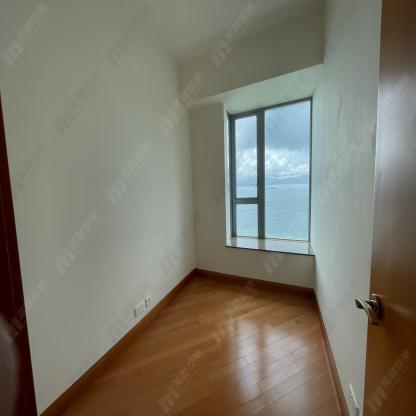Windowsill: (223, 64, 320, 257)
